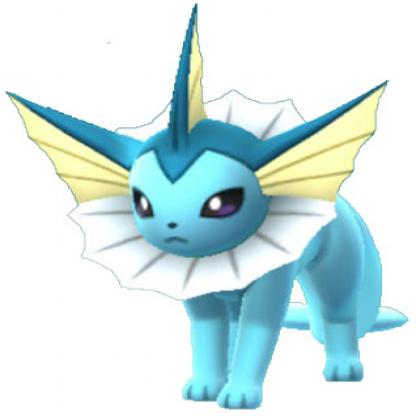Vaporeon: (3, 1, 416, 410)
